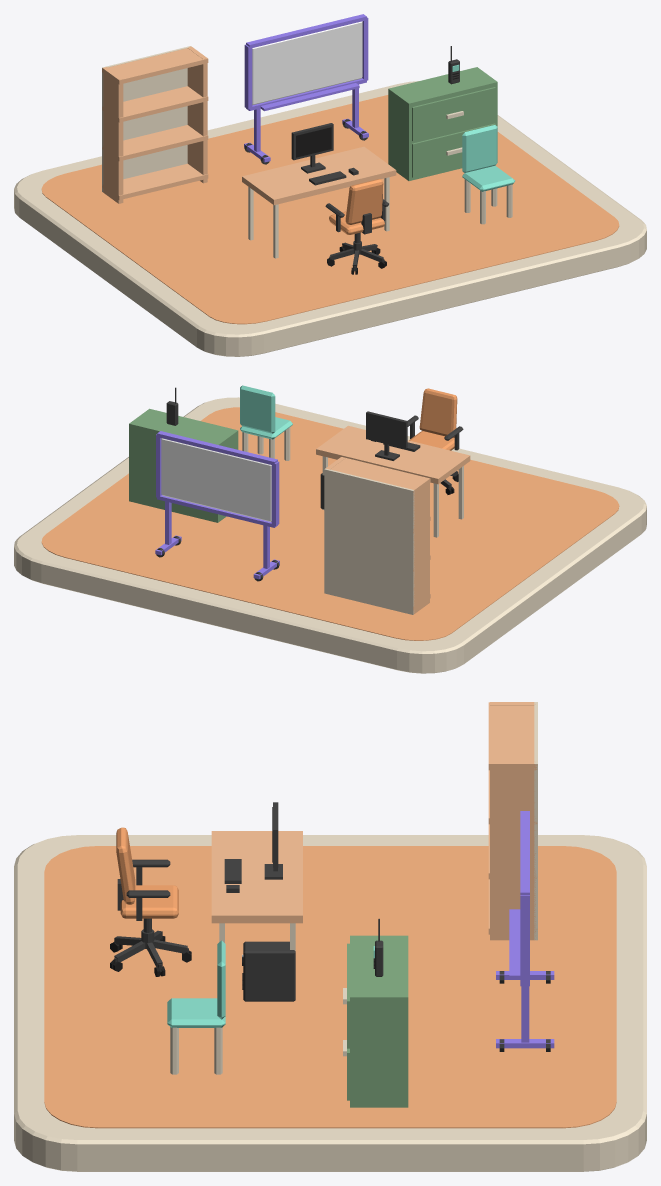
3 views of the same model, one above another, from view 1: azimuth 30°, elevation 25°; view 2: azimuth 150°, elevation 25°; view 3: azimuth 270°, elevation 25° (orthographic). The views are drawn at different scales.
Visible parts, largest first — view 1: COM-02 Floor Surface, COM-01 Rounded Base Direct, Cabinet, Writing surface, Top, Back, COM-04_Chair_blender_direct, Side, Side.001, Shelf.003, Shelf.002, Shelf.001 (+7 smaller); view 2: COM-02 Floor Surface, COM-01 Rounded Base Direct, Back, Writing surface, Cabinet, Top, COM-04_Chair_blender_direct, Side, Backrest, Frame, Shelf.003, Frame rail.001 (+3 smaller); view 3: COM-02 Floor Surface, COM-01 Rounded Base Direct, Cabinet, Top, Side.001, COM-04_Chair_blender_direct, Tower, Shelf.003, Seat, Back, Frame upright.001, Frame rail.001 (+3 smaller).
Part boxes in pixels (x1,y1,x2,y2): COM-02 Floor Surface: [41, 95, 619, 324]; COM-01 Rounded Base Direct: [14, 81, 646, 356]; Cabinet: [388, 67, 497, 180]; Writing surface: [252, 21, 362, 105]; Top: [242, 146, 396, 258]; Back: [102, 46, 191, 192]; COM-04_Chair_blender_direct: [325, 179, 388, 274]; Side: [103, 67, 123, 203]; Side.001: [187, 46, 207, 183]; Shelf.003: [102, 48, 208, 84]; Shelf.002: [102, 86, 208, 122]; Shelf.001: [102, 125, 208, 161]; COM-02 Floor Surface: [41, 407, 619, 640]; COM-01 Rounded Base Direct: [14, 397, 646, 673]; Back: [324, 468, 414, 614]; Writing surface: [161, 438, 271, 521]; Cabinet: [129, 408, 238, 522]; Top: [316, 425, 470, 537]; COM-04_Chair_blender_direct: [407, 388, 463, 494]; Side: [410, 477, 429, 614]; Backrest: [240, 385, 275, 433]; Frame: [366, 411, 407, 460]; Shelf.003: [330, 457, 430, 494]; Frame rail.001: [157, 431, 277, 465]; COM-02 Floor Surface: [44, 846, 616, 1128]; COM-01 Rounded Base Direct: [14, 835, 646, 1171]; Cabinet: [343, 935, 408, 1107]; Top: [211, 831, 302, 950]; Side.001: [490, 760, 535, 940]; COM-04_Chair_blender_direct: [110, 827, 191, 976]; Tower: [243, 941, 295, 1001]; Shelf.003: [488, 702, 537, 770]; Seat: [167, 998, 225, 1027]; Back: [534, 702, 537, 940]; Frame upright.001: [520, 895, 529, 984]; Frame rail.001: [520, 811, 529, 895].
Size of the model in its own units: 6 by 1.9 by 5.2.
Materials: 1 (1 with a texture image).
